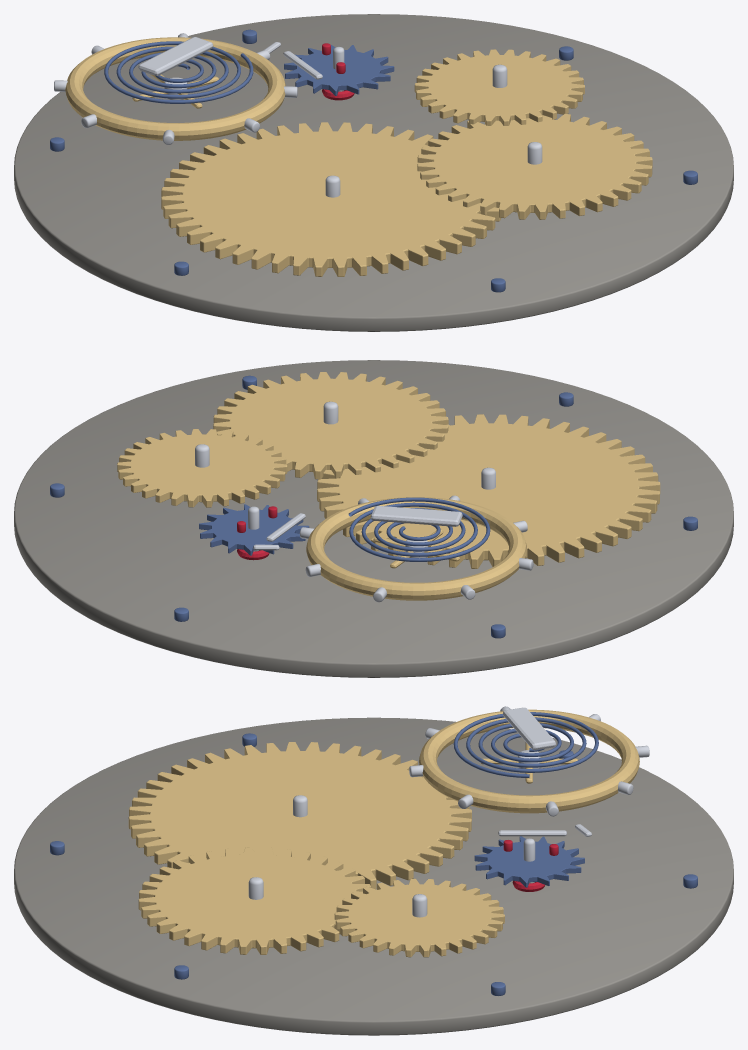
3 renders of one model, top to bottom at view 1: azimuth 30°, elevation 25°; view 2: azimuth 150°, elevation 25°; view 3: azimuth 270°, elevation 25°, orthographic.
Parts seen in each view (by area): view 1: plate, center_wheel, third_wheel, fourth_wheel, balance_rim, hairspring, escape_wheel, balance_cock; view 2: plate, center_wheel, third_wheel, fourth_wheel, balance_rim, hairspring, escape_wheel, balance_cock; view 3: plate, center_wheel, third_wheel, fourth_wheel, balance_rim, hairspring, escape_wheel, balance_cock.
Part boxes in pixels (bbox=[...]): plate: bbox=[14, 14, 733, 331]; center_wheel: bbox=[161, 122, 501, 276]; third_wheel: bbox=[417, 113, 652, 219]; fourth_wheel: bbox=[414, 49, 584, 125]; balance_rim: bbox=[65, 37, 285, 140]; hairspring: bbox=[104, 41, 253, 103]; escape_wheel: bbox=[284, 45, 394, 95]; balance_cock: bbox=[138, 37, 213, 75]; plate: bbox=[14, 360, 733, 677]; center_wheel: bbox=[317, 414, 660, 568]; third_wheel: bbox=[213, 372, 448, 479]; fourth_wheel: bbox=[117, 429, 287, 507]; balance_rim: bbox=[306, 497, 526, 600]; hairspring: bbox=[348, 497, 490, 561]; escape_wheel: bbox=[199, 504, 309, 555]; balance_cock: bbox=[370, 505, 462, 526]; plate: bbox=[14, 717, 733, 1035]; center_wheel: bbox=[128, 742, 471, 889]; third_wheel: bbox=[138, 847, 370, 954]; fourth_wheel: bbox=[334, 878, 504, 957]; balance_rim: bbox=[419, 709, 639, 813]; hairspring: bbox=[453, 712, 598, 777]; escape_wheel: bbox=[474, 836, 584, 887]; balance_cock: bbox=[503, 707, 555, 750].
Bounding box in the file's own units: 4.4 × 0.6725 × 4.4.
